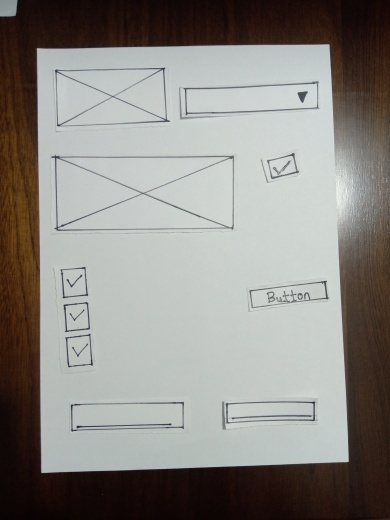button: (250, 286, 328, 307)
checkbox: (266, 152, 301, 178), (60, 268, 87, 299), (66, 337, 93, 368), (64, 302, 91, 333)
dropdown: (186, 85, 317, 109)
img: (52, 155, 232, 231), (56, 70, 165, 127)
text: (69, 406, 183, 428), (225, 402, 316, 428)
